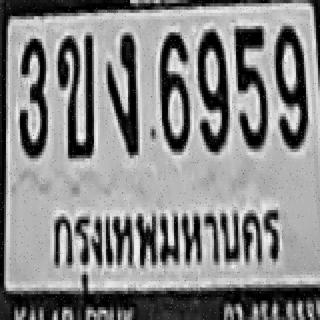A02: (56, 32, 92, 155)
A07: (105, 30, 137, 154)
N03: (18, 36, 46, 155)
N05: (234, 24, 266, 150)
N06: (159, 29, 189, 152)
N09: (196, 26, 228, 152), (274, 23, 306, 149)
P04: (43, 196, 285, 302)
